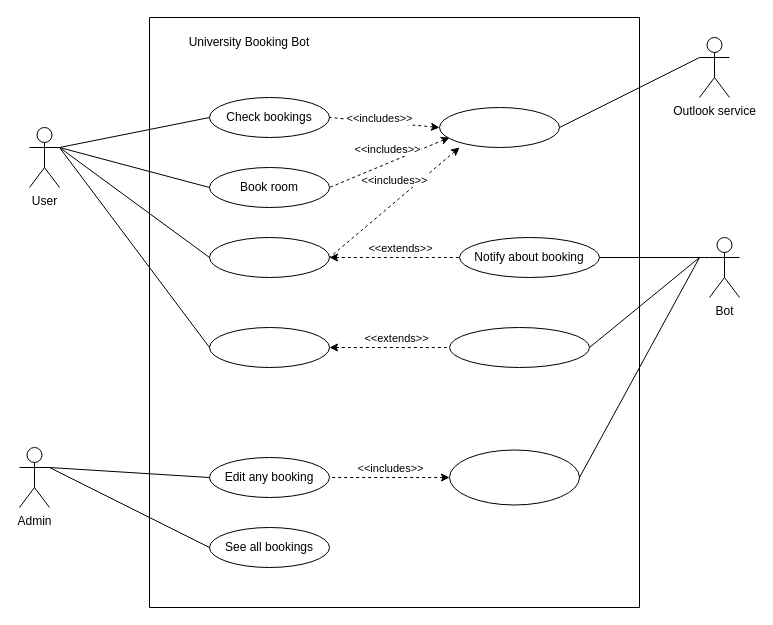
This 773x625 diagram has some shape labels left out. The shapes that lost their labels are listed below. From the top down, each one's box as (x1, y1, x2, y2) in pixels, then its label:
(438, 106, 560, 148): Authorization
(208, 236, 330, 278): Cancel booking
(208, 326, 330, 368): Prolong booking
(448, 326, 590, 368): Ask to prolong booking
(448, 449, 580, 505): Notify user about changes
